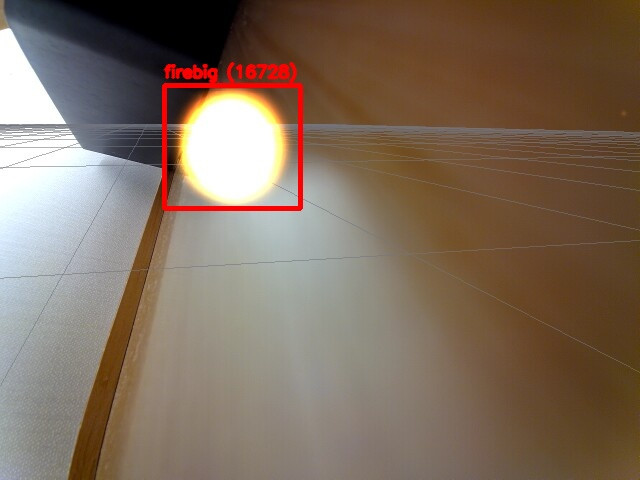firebig: (164, 85, 300, 208)
